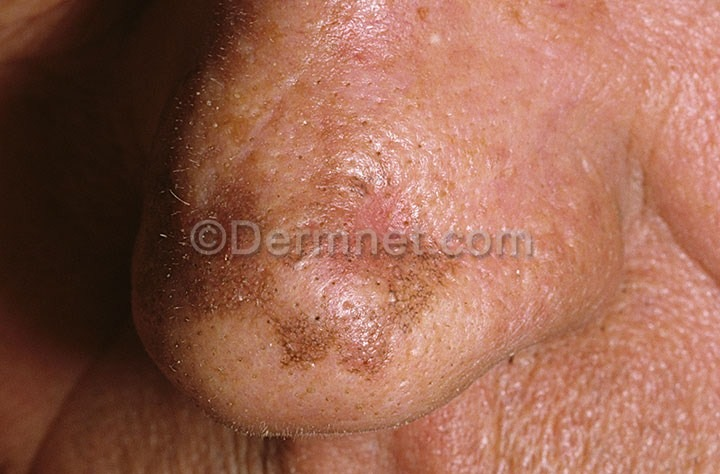Melasma: (143, 259, 484, 367), (178, 145, 436, 220)
